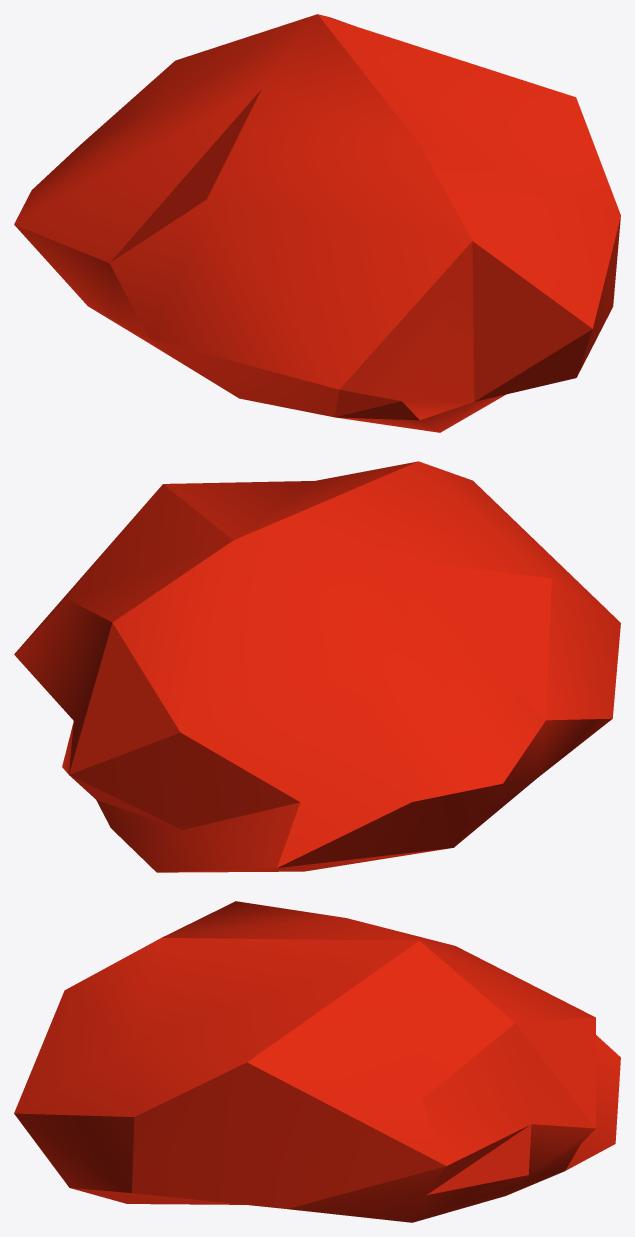
Rendered from SM_Bush.FBX.
3 renders of one model, top to bottom at view 1: azimuth 30°, elevation 25°; view 2: azimuth 150°, elevation 25°; view 3: azimuth 270°, elevation 25°, orthographic. The views are drawn at different scales.
Visible parts, largest first — view 1: SM_Bush; view 2: SM_Bush; view 3: SM_Bush.
Boxes of the visible parts, x1,y1,x2,y2 form: SM_Bush: (14, 14, 620, 432); SM_Bush: (14, 461, 620, 872); SM_Bush: (14, 901, 620, 1222).
Size of the model in its own units: 128 by 69.19 by 152.
